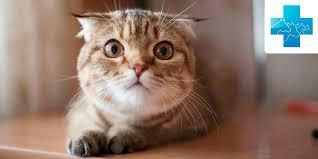animals: (66, 8, 225, 158)
